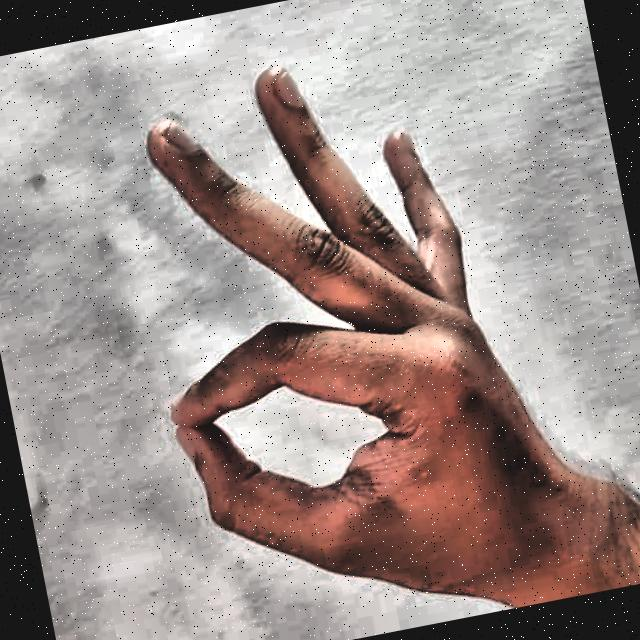Ca: (65, 0, 635, 640)
